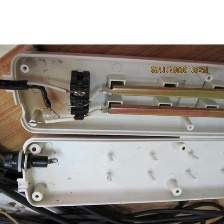three_eye_plug: (1, 47, 223, 143), (1, 133, 223, 211)
